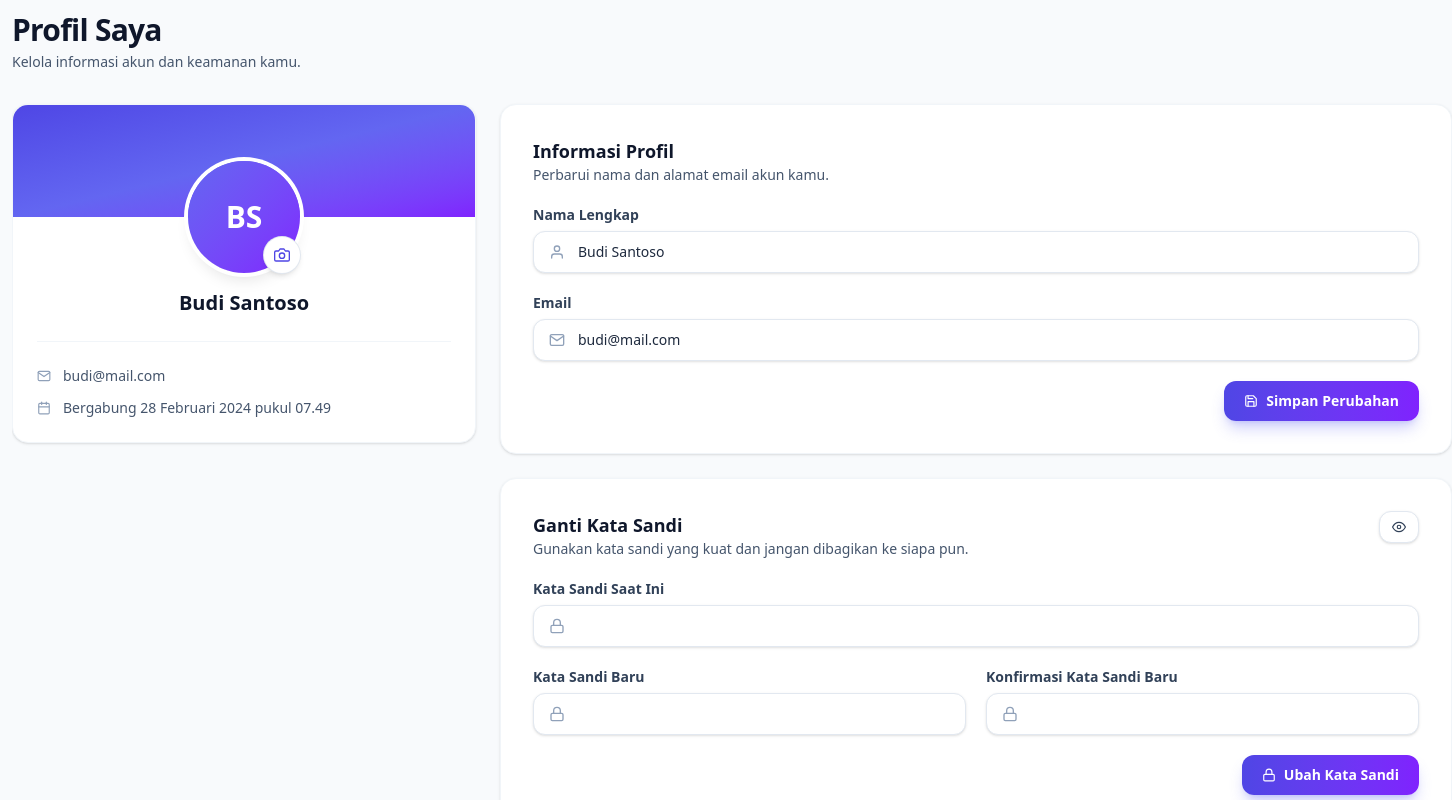
Test: ProfilePage › ganti kata sandi › menampilkan pesan wajib diisi
This screenshot has width=1452, height=800.
Click the button "Ubah Kata Sandi" at (1330, 775), box [1242,755,1419,795]
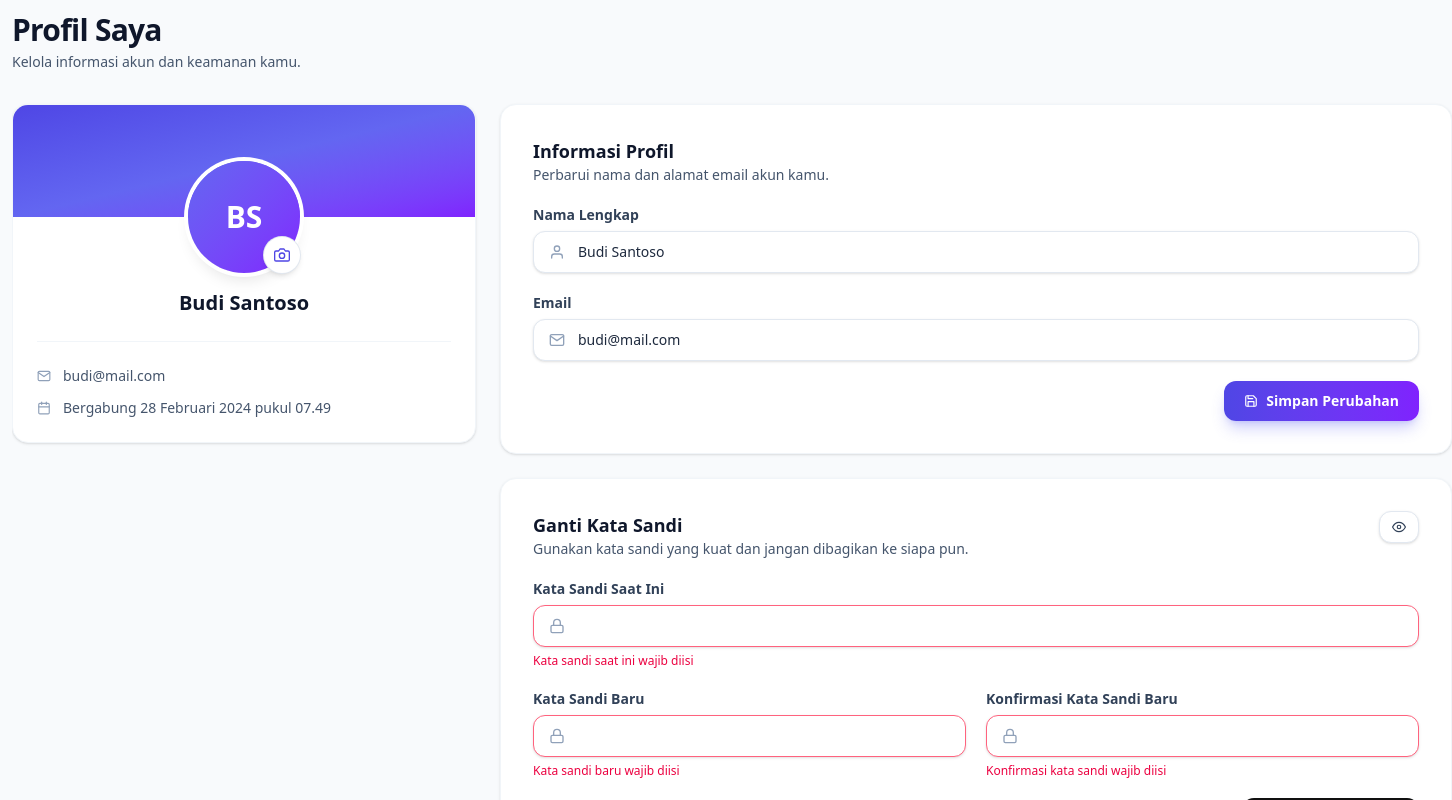
Expected: the text "Kata sandi saat ini wajib diisi" is shown, [533,652,694,669]
Expected: the text "Kata sandi baru wajib diisi" is shown, [533,762,680,779]
Expected: the text "Konfirmasi kata sandi wajib diisi" is shown, [986,762,1166,779]
